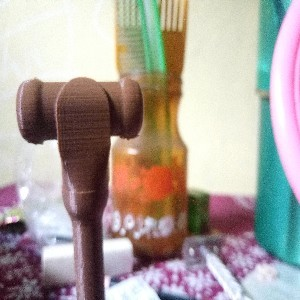palu: (14, 76, 143, 300)
